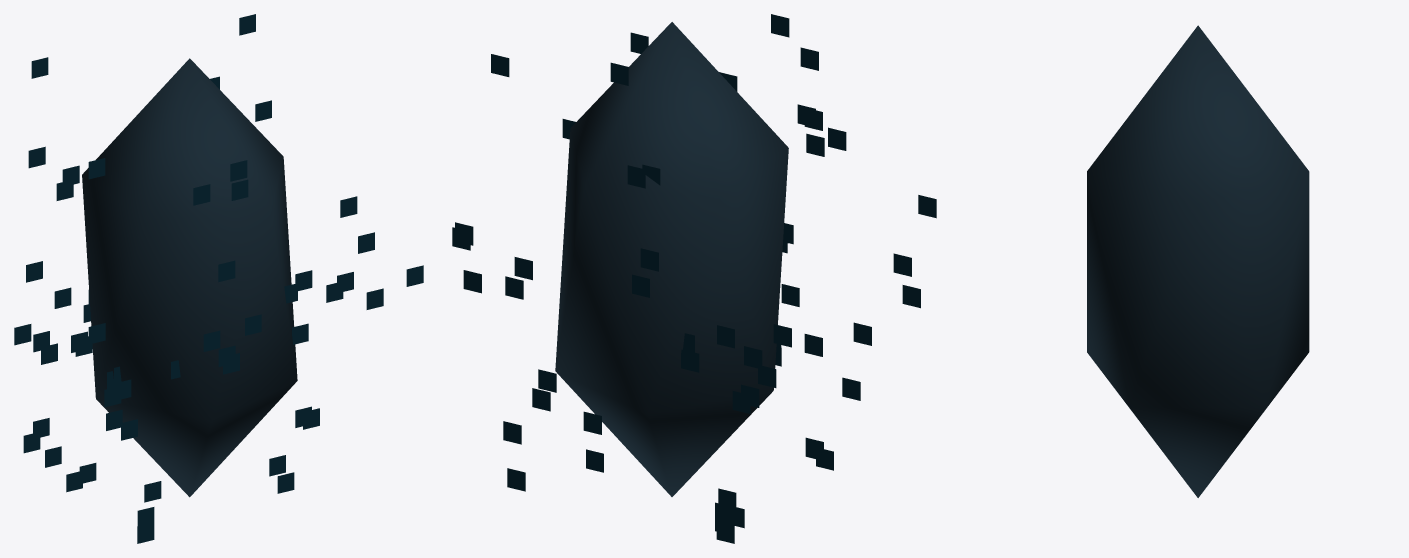
File: shard.glb
3 renders of one model, left to right at view 1: azimuth 30°, elevation 25°; view 2: azimuth 150°, elevation 25°; view 3: azimuth 270°, elevation 25°, orthographic. The views are drawn at different scales.
Visible parts, largest first — view 1: shard_shell2, shard_pts; view 2: shard_shell2, shard_pts; view 3: shard_shell2.
Part boxes in pixels (<box>): shard_shell2: <box>82,58,297,497</box>; shard_pts: <box>14,14,423,543</box>; shard_shell2: <box>555,22,788,496</box>; shard_pts: <box>452,14,936,543</box>; shard_shell2: <box>1087,25,1309,497</box>.
Size of the model in its own units: 0.1303 by 0.1496 by 0.123.
